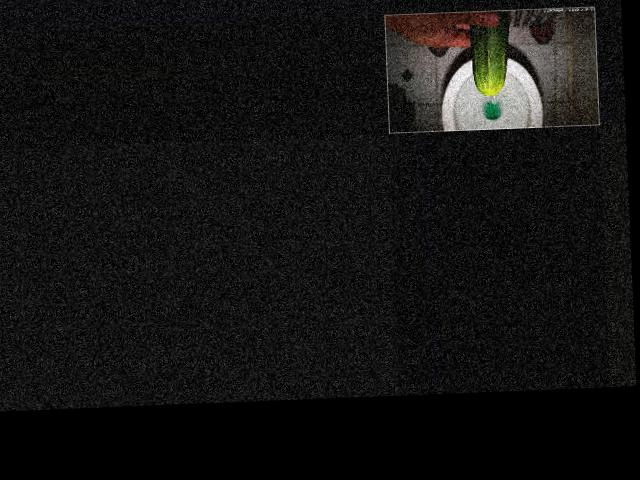cucumber: (470, 8, 513, 96)
